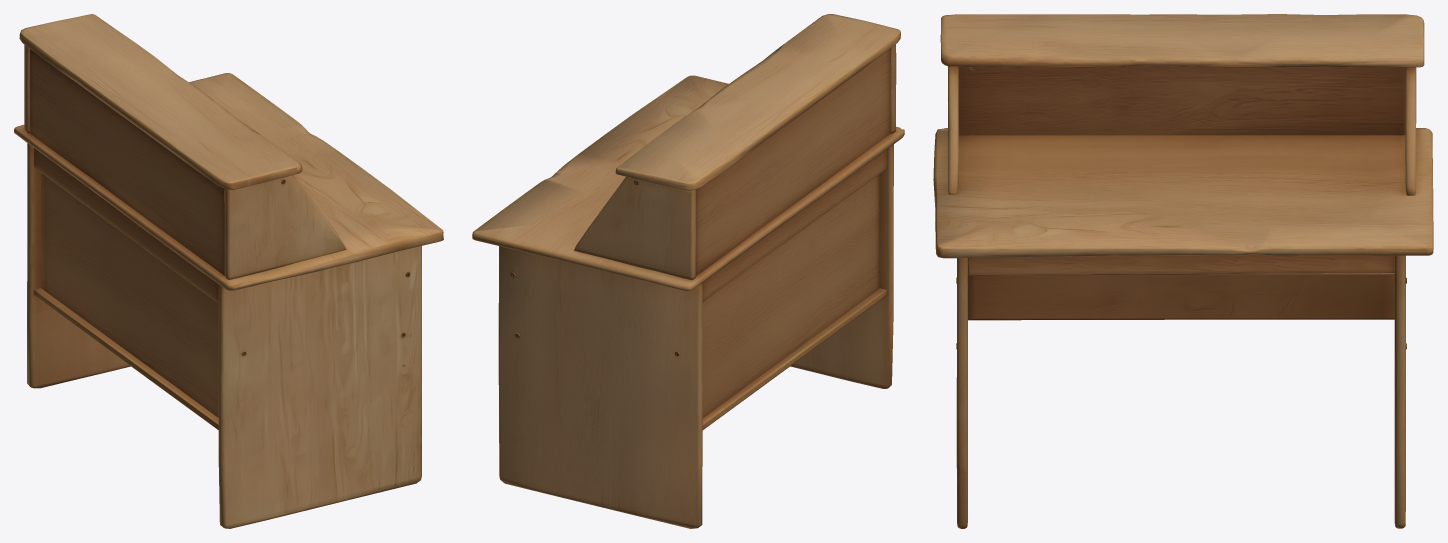
Rendered from log-desk.glb.
The picture shows the model from 3 angles, left to right: view 1: azimuth 30°, elevation 25°; view 2: azimuth 150°, elevation 25°; view 3: azimuth 270°, elevation 25°; orthographic projection. The views are drawn at different scales.
Visible parts, largest first — view 1: tripo_node_658f1495-92a3-4372-b67b-fbfad6233901; view 2: tripo_node_658f1495-92a3-4372-b67b-fbfad6233901; view 3: tripo_node_658f1495-92a3-4372-b67b-fbfad6233901.
Boxes of the visible parts, x1,y1,x2,y2 form: tripo_node_658f1495-92a3-4372-b67b-fbfad6233901: (14, 14, 443, 528); tripo_node_658f1495-92a3-4372-b67b-fbfad6233901: (472, 14, 904, 528); tripo_node_658f1495-92a3-4372-b67b-fbfad6233901: (933, 14, 1433, 528).
Size of the model in its own units: 0.5806 by 0.8931 by 0.9995.
1 material, 1 textured.
